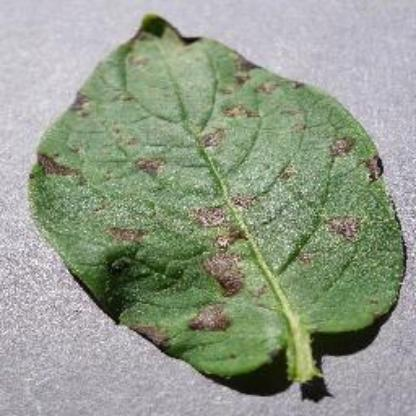Early-Blight: (28, 9, 410, 393)
